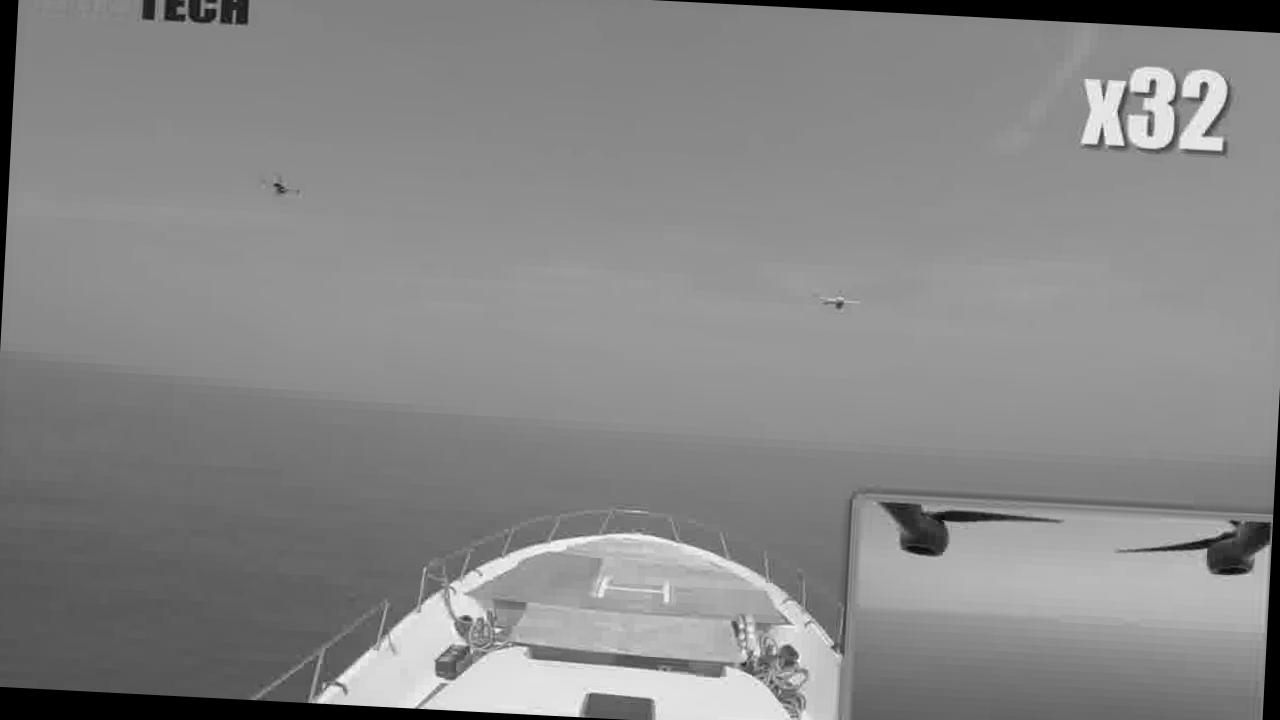drone: (242, 163, 304, 214), (804, 276, 866, 324)
